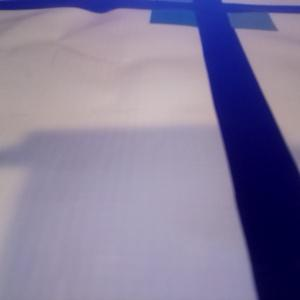bottom_left: (151, 2, 227, 27)
bottom_right: (199, 5, 276, 30)
